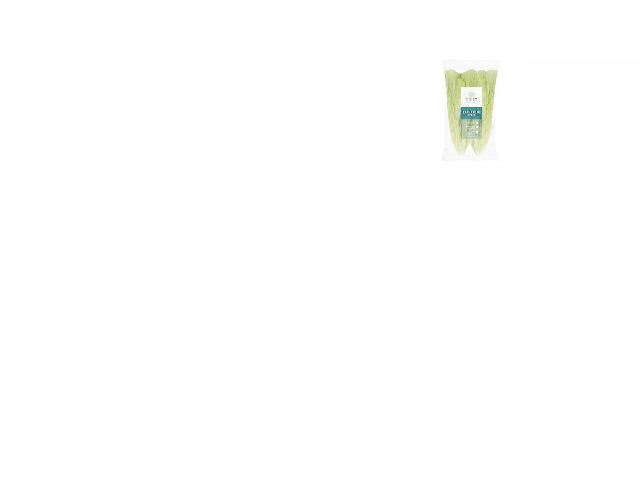lettuce: (437, 66, 497, 156)
